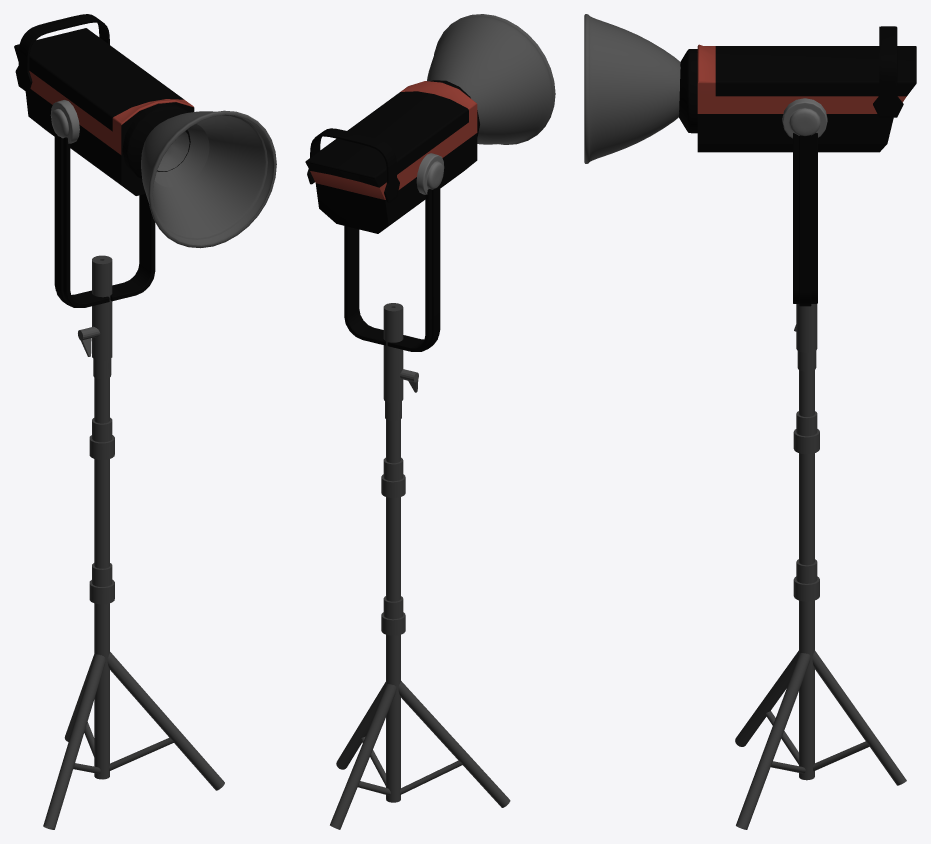
The model's file is Aputure_300d_Mark_II.fbx.
The picture shows the model from 3 angles, left to right: view 1: azimuth 30°, elevation 25°; view 2: azimuth 150°, elevation 25°; view 3: azimuth 270°, elevation 25°; orthographic projection. The views are drawn at different scales.
Parts seen in each view (by area): view 1: pCylinder89, pCylinder170, pCube63, pPlane7, pCylinder92, pPlane8, pCylinder90; view 2: pCube63, pCylinder170, pCylinder89, pPlane7, pPlane8, pCylinder90; view 3: pCube63, pCylinder170, pCylinder89, pPlane7, pPlane8, pCylinder90, pCylinder92.
Part boxes in pixels (left/top/right/bottom): pCylinder89: left=141, top=110, right=276, bottom=248; pCylinder170: left=43, top=255, right=224, bottom=829; pCube63: left=14, top=28, right=194, bottom=195; pPlane7: left=54, top=132, right=155, bottom=307; pCylinder92: left=122, top=103, right=190, bottom=178; pPlane8: left=15, top=14, right=109, bottom=92; pCylinder90: left=50, top=100, right=79, bottom=143; pCube63: left=305, top=81, right=477, bottom=233; pCylinder170: left=330, top=303, right=510, bottom=829; pCylinder89: left=427, top=14, right=555, bottom=144; pPlane7: left=344, top=184, right=440, bottom=351; pPlane8: left=307, top=128, right=399, bottom=203; pCylinder90: left=416, top=153, right=444, bottom=194; pCube63: left=697, top=44, right=916, bottom=152; pCylinder170: left=735, top=304, right=906, bottom=829; pCylinder89: left=584, top=14, right=680, bottom=163; pPlane7: left=793, top=133, right=817, bottom=306; pPlane8: left=873, top=26, right=903, bottom=117; pCylinder90: left=782, top=98, right=827, bottom=138; pCylinder92: left=679, top=49, right=697, bottom=133.
Bounding box in the file's own units: 8.51 × 33.92 × 13.29.
